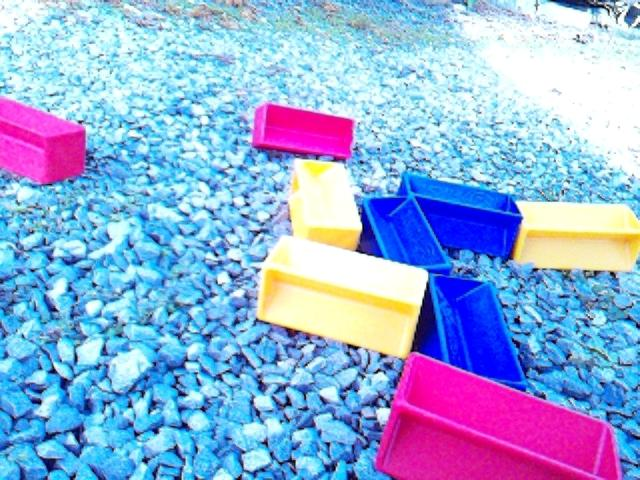blue: (417, 273, 529, 392), (396, 171, 524, 260), (363, 194, 453, 275)
red: (373, 351, 625, 480), (1, 93, 88, 186), (251, 102, 357, 160)
yellow: (256, 234, 429, 360), (512, 200, 640, 273), (288, 158, 363, 251)
